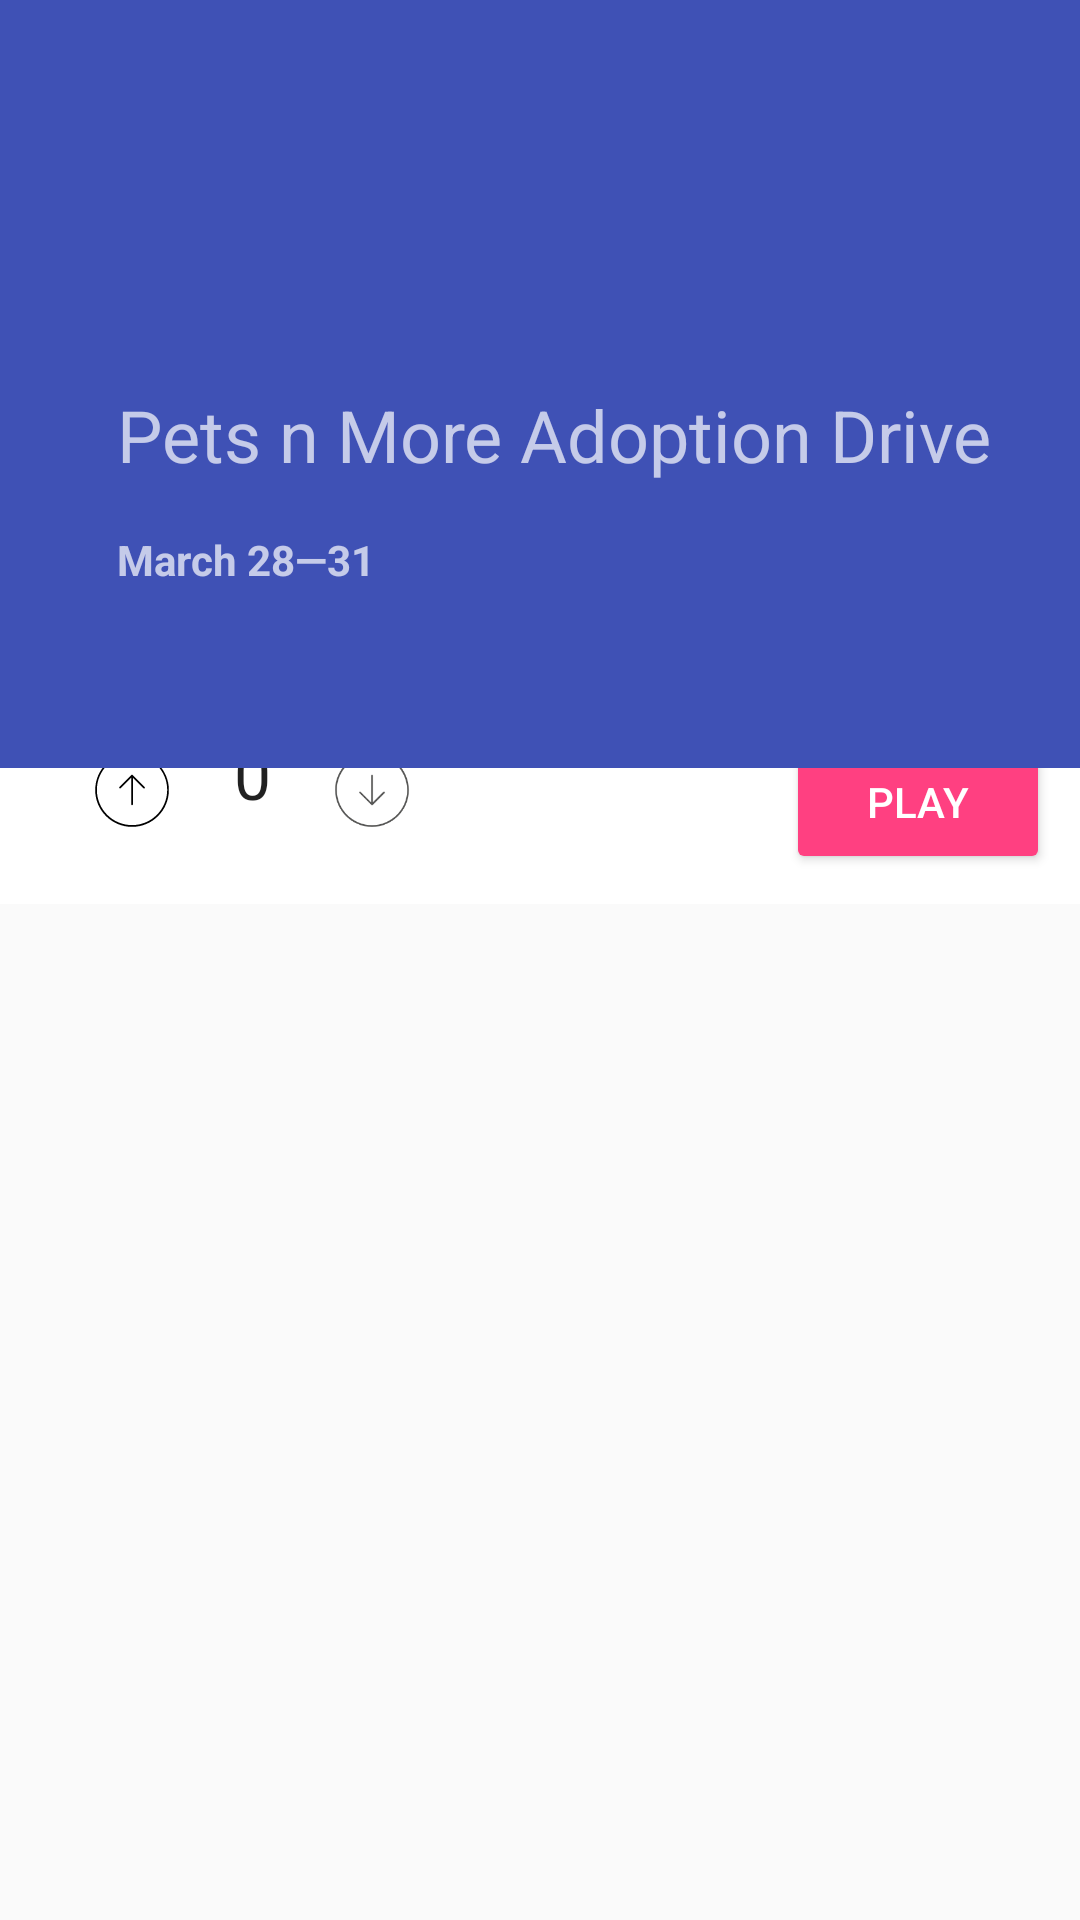

Point at icon controls on the screen. Image size 1080w x 1920h, points as (x=x, y=y).
down arrow: (x=372, y=790)
up arrow: (x=132, y=790)
